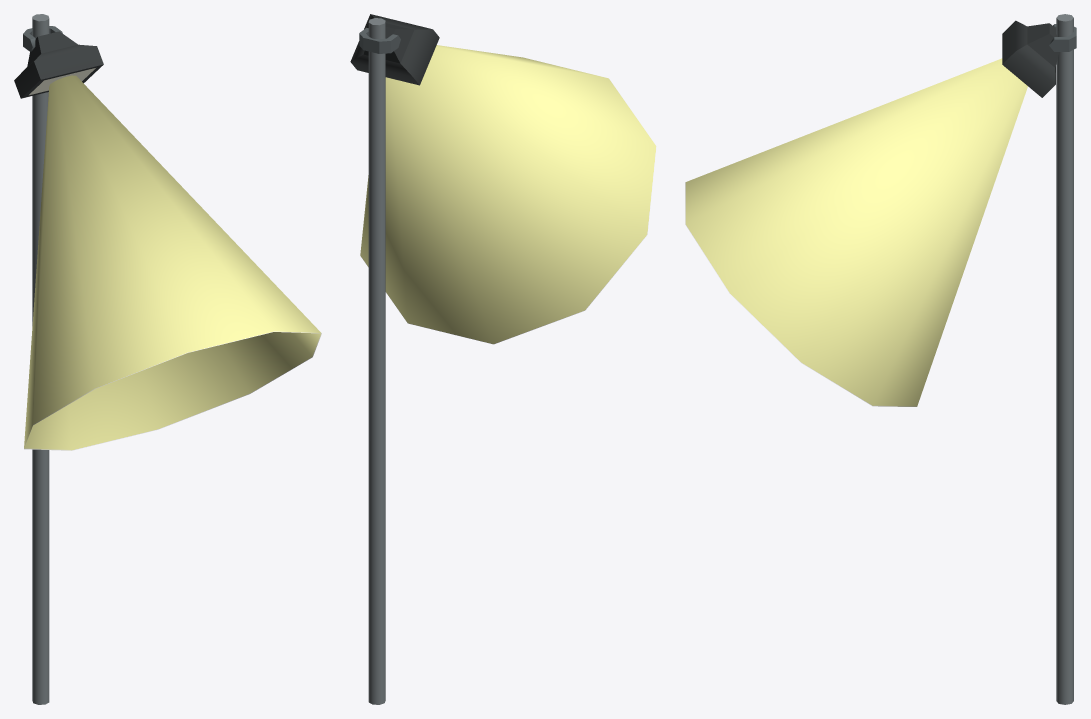
Rendered from Light Pole.fbx.
3 renders of one model, left to right at view 1: azimuth 30°, elevation 25°; view 2: azimuth 150°, elevation 25°; view 3: azimuth 270°, elevation 25°, orthographic.
Parts seen in each view (by area): view 1: Light_Pole, light_cone; view 2: Light_Pole, light_cone; view 3: Light_Pole, light_cone.
Boxes of the visible parts, x1,y1,x2,y2 form: Light_Pole: (24, 75, 321, 450); light_cone: (14, 14, 103, 704); Light_Pole: (360, 45, 656, 344); light_cone: (350, 14, 439, 704); Light_Pole: (685, 58, 1027, 406); light_cone: (1002, 14, 1076, 704).
Bounding box in the file's own units: 24.34 × 56.84 × 29.51.
Materials: 2 (2 with a texture image).
